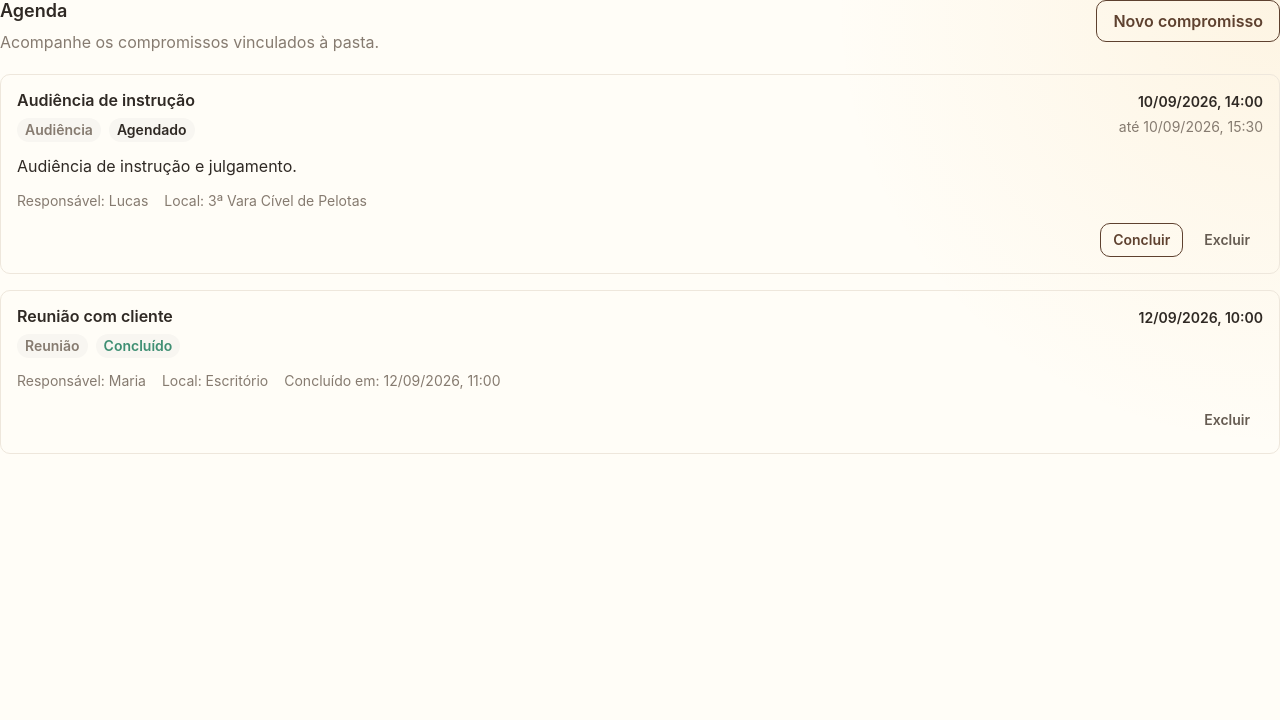
it: FolderEvents › cancela exclusão sem remover compromisso
Step 1. Click the button "Excluir" below "até 10/09/2026, 15:30" → (1227, 240), box [1191,223,1263,257]
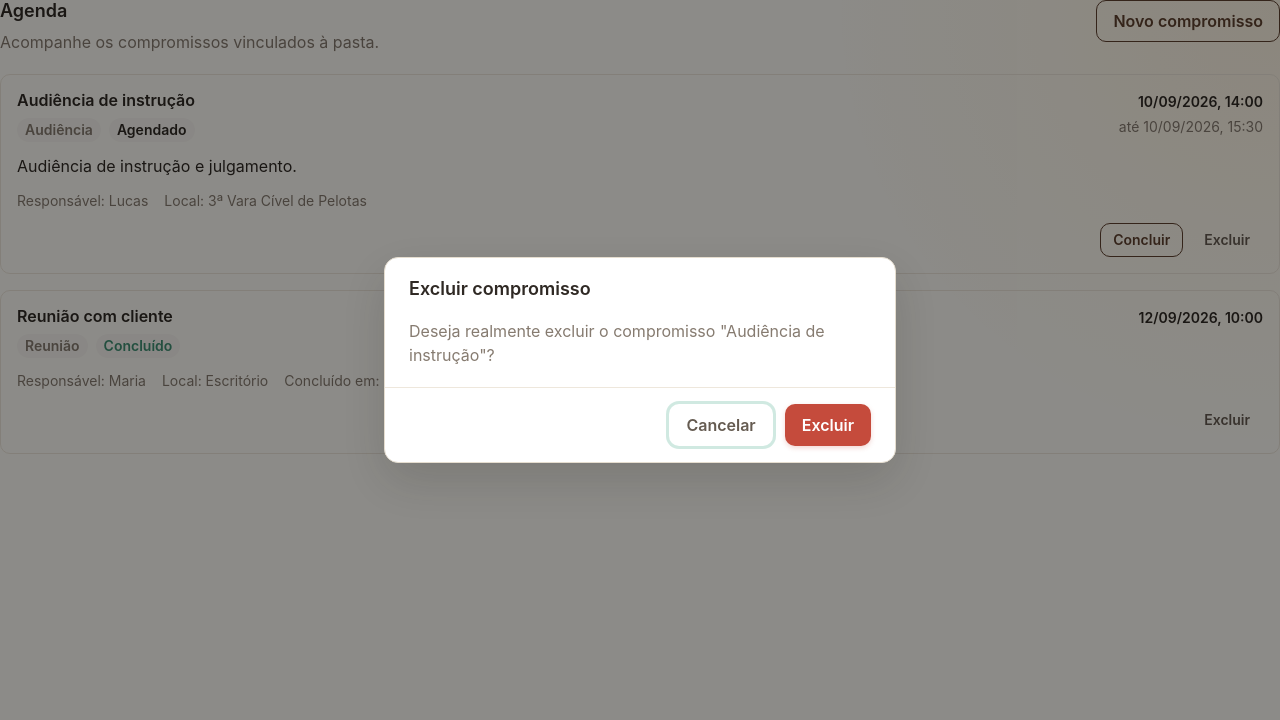
Expected: the button "Cancelar" is shown
Step 2. Click the button "Cancelar" → (721, 425), box [669,404,773,446]
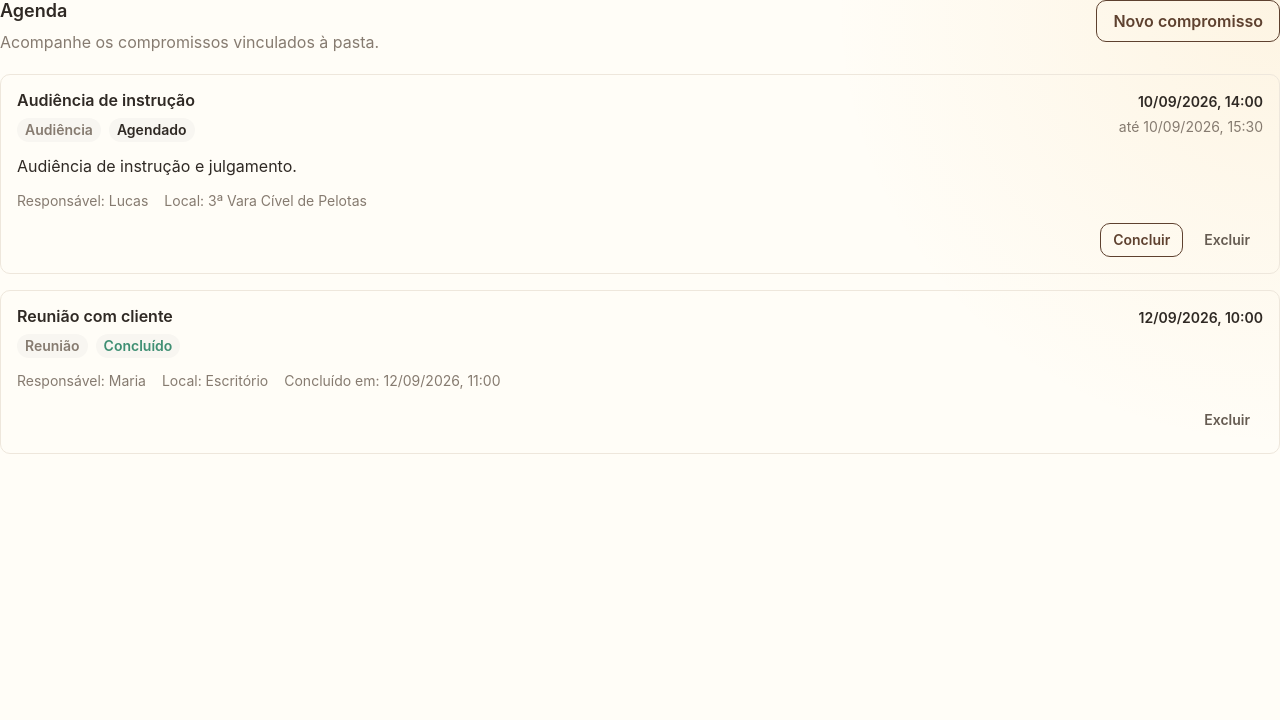
Expected: the element with class "app-confirm-dialog" is gone
